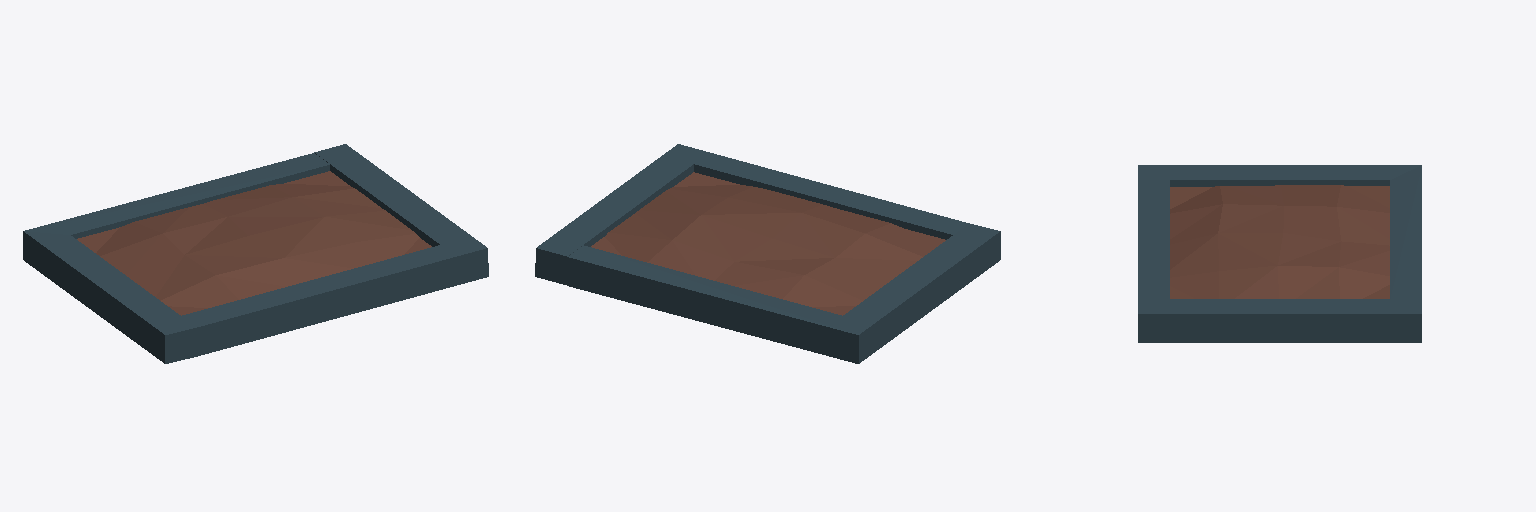
The model's file is model-triangulated.obj.
3 views of the same model, side by side, from view 1: azimuth 30°, elevation 25°; view 2: azimuth 150°, elevation 25°; view 3: azimuth 270°, elevation 25° (orthographic).
Parts seen in each view (by area): view 1: group[number redacted], group[number redacted], group[number redacted]; view 2: group[number redacted], group[number redacted], group[number redacted]; view 3: group[number redacted], group[number redacted], group[number redacted].
Boxes of the visible parts, box(x1,y1,x2,y2) form: group[number redacted]: box(77, 171, 431, 315); group[number redacted]: box(182, 144, 488, 355); group[number redacted]: box(23, 153, 329, 363); group[number redacted]: box(591, 172, 945, 315); group[number redacted]: box(567, 223, 1000, 363); group[number redacted]: box(535, 144, 968, 284); group[number redacted]: box(1170, 185, 1389, 298); group[number redacted]: box(1138, 180, 1421, 342); group[number redacted]: box(1138, 165, 1421, 298).
Size of the model in its own units: 0.9313 by 0.1298 by 0.71.